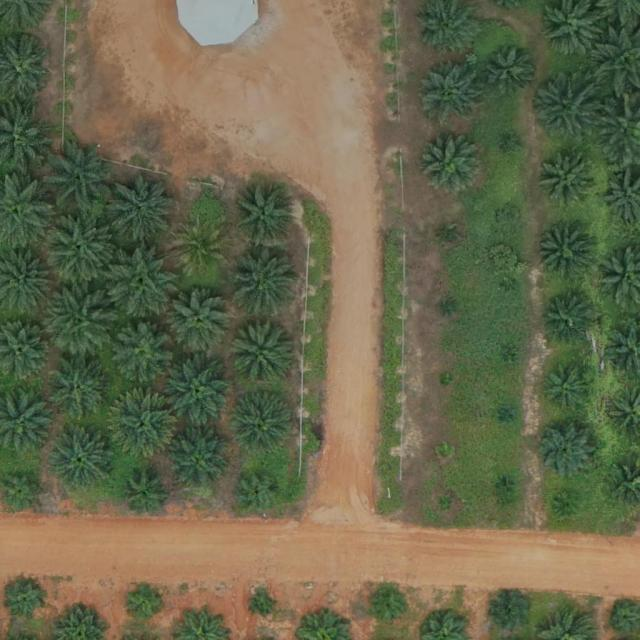Healthy: (109, 175, 180, 246), (45, 145, 116, 216), (532, 73, 602, 144), (532, 416, 602, 487), (164, 355, 234, 426), (108, 248, 178, 319), (46, 211, 116, 282), (109, 394, 179, 464), (231, 247, 301, 317), (44, 289, 114, 359), (232, 184, 295, 247), (170, 292, 233, 355), (420, 63, 482, 126), (419, 130, 481, 193), (229, 322, 292, 384), (232, 393, 295, 455), (168, 429, 230, 492), (49, 361, 111, 424), (51, 428, 113, 491), (112, 324, 174, 386), (537, 227, 592, 282), (541, 293, 596, 348), (542, 151, 596, 206), (483, 44, 537, 99), (122, 473, 169, 520)
Small: (543, 360, 598, 416), (236, 469, 283, 517), (371, 589, 410, 629), (490, 593, 529, 633), (8, 581, 47, 620), (124, 582, 163, 621), (499, 208, 523, 232), (557, 492, 581, 516), (254, 594, 277, 618), (500, 352, 516, 368), (439, 374, 455, 390), (507, 136, 522, 152), (504, 280, 520, 295), (442, 300, 457, 316), (437, 444, 452, 460), (501, 408, 517, 423), (442, 230, 457, 245), (439, 497, 454, 512), (497, 477, 512, 492)
Yellow: (174, 224, 229, 279)
